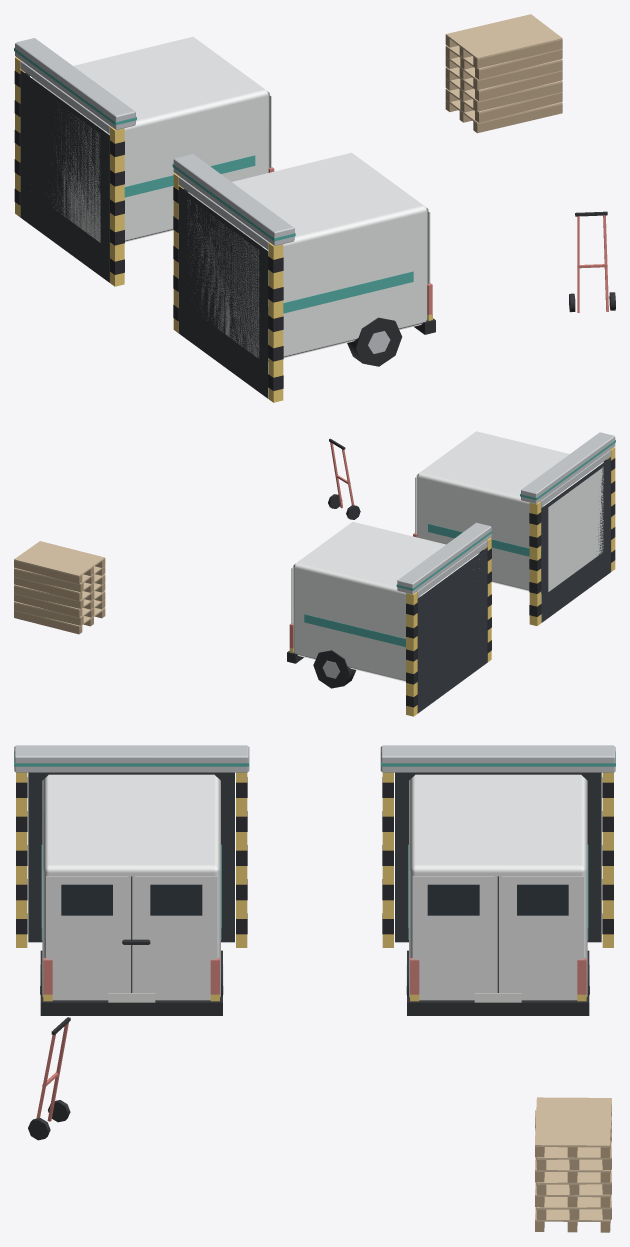
The model's file is einrichtung_rampe_buehne.glb.
The picture shows the model from 3 angles, top to bottom: view 1: azimuth 30°, elevation 25°; view 2: azimuth 150°, elevation 25°; view 3: azimuth 270°, elevation 25°; orthographic projection. The views are drawn at different scales.
Visible parts, largest first — view 1: einrichtung_rampe_buehne; view 2: einrichtung_rampe_buehne; view 3: einrichtung_rampe_buehne.
Boxes of the visible parts, x1,y1,x2,y2 form: einrichtung_rampe_buehne: (14,14,615,402); einrichtung_rampe_buehne: (14,431,615,716); einrichtung_rampe_buehne: (14,745,615,1232).
Size of the model in its own units: 7.31 by 2.32 by 6.4.
